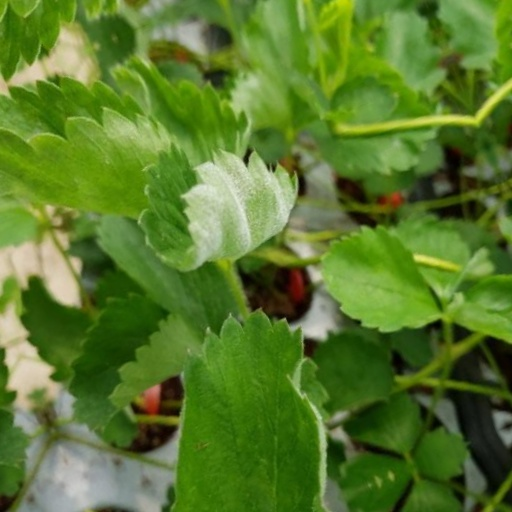Powdery Mildew Leaf: (240, 0, 446, 213), (185, 260, 354, 395)
